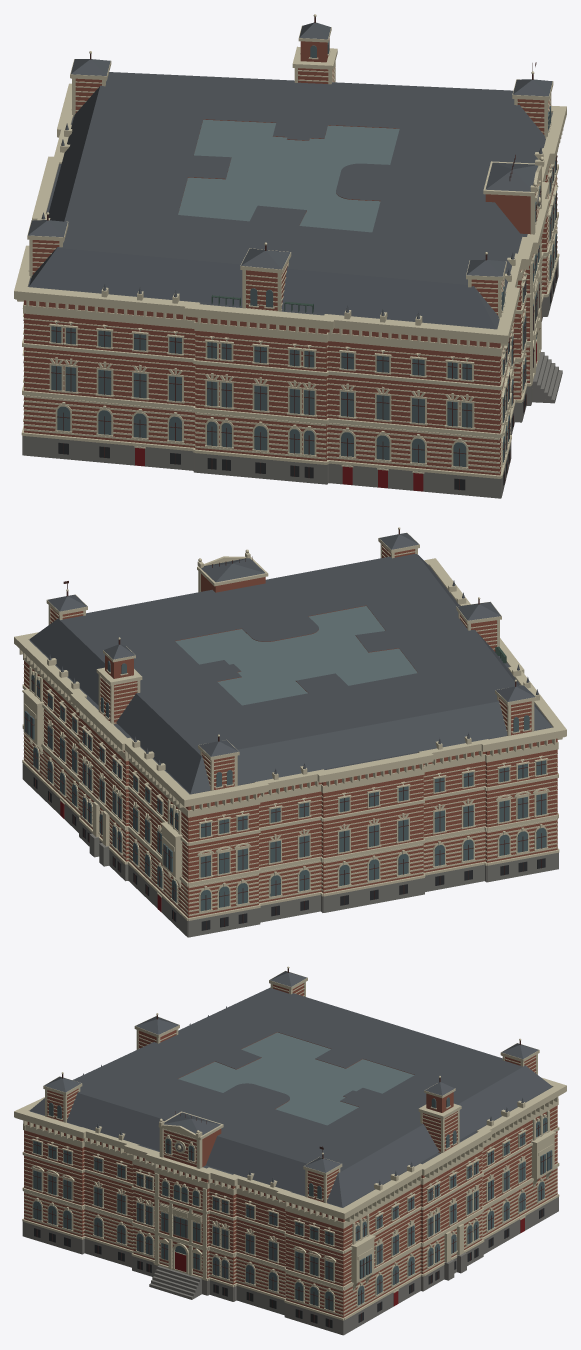
File: droogbak.glb
3 renders of one model, top to bottom at view 1: azimuth 30°, elevation 25°; view 2: azimuth 150°, elevation 25°; view 3: azimuth 270°, elevation 25°, orthographic. The views are drawn at different scales.
Visible parts, largest first — view 1: droogbak; view 2: droogbak; view 3: droogbak.
Part boxes in pixels (x1,y1,x2,y2): droogbak: [14, 14, 566, 498]; droogbak: [14, 527, 566, 937]; droogbak: [14, 966, 566, 1335].
Bounding box in the file's own units: 73.12 × 29.91 × 77.24.
